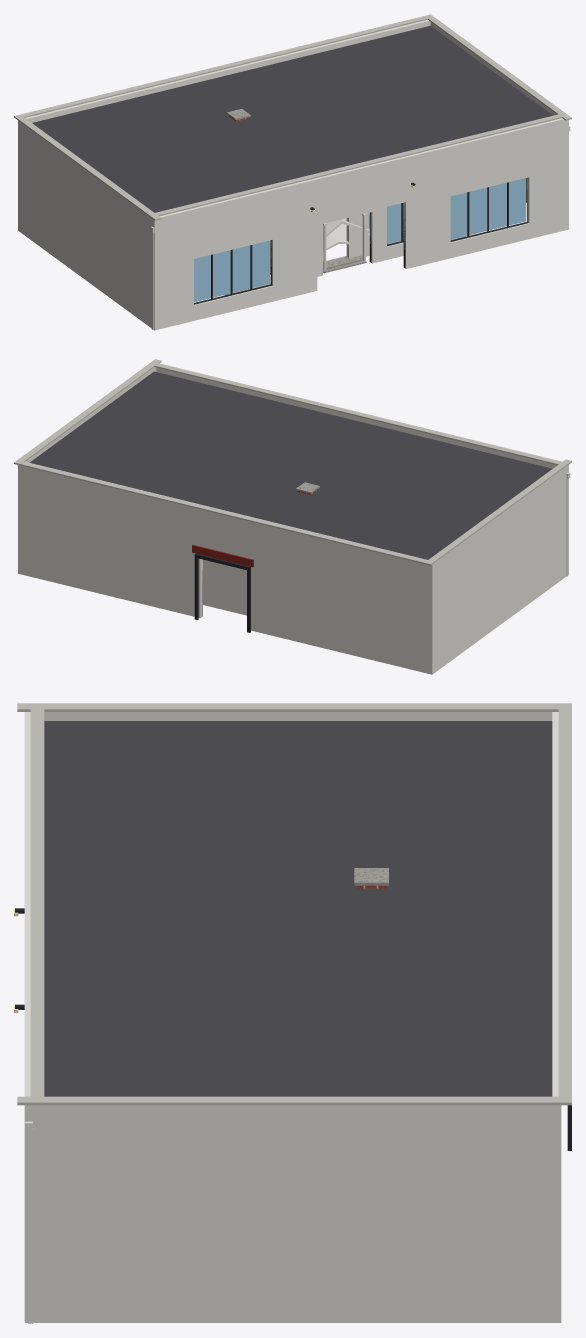
File: MogLife_Buildings.fbx
The picture shows the model from 3 angles, top to bottom: view 1: azimuth 30°, elevation 25°; view 2: azimuth 150°, elevation 25°; view 3: azimuth 270°, elevation 25°; orthographic projection. The views are drawn at different scales.
Visible parts, largest first — view 1: Shop_Gym_Trim, Shop_Gym_Walls, Shop_Clothes_Walls, House_Trim, Shop_Clothes_Trim, House_Walls, Shop_Furniture_Trim, Garage_Roof; view 2: Shop_Gym_Walls, Shop_Gym_Trim, Shop_Clothes_Walls, Shop_Furniture_Walls; view 3: Shop_Gym_Trim, Shop_Gym_Walls.
Part boxes in pixels (x1,y1,x2,y2): Shop_Gym_Trim: (14, 14, 571, 329); Shop_Gym_Walls: (18, 19, 568, 330); Shop_Clothes_Walls: (239, 207, 455, 291); House_Trim: (226, 109, 366, 273); Shop_Clothes_Trim: (270, 203, 403, 274); House_Walls: (346, 212, 369, 258); Shop_Furniture_Trim: (226, 203, 403, 294); Garage_Roof: (323, 223, 389, 251); Shop_Gym_Walls: (18, 363, 568, 674); Shop_Gym_Trim: (14, 359, 571, 632); Shop_Clothes_Walls: (203, 560, 246, 615); Shop_Furniture_Walls: (203, 559, 246, 614); Shop_Gym_Trim: (14, 703, 571, 1323); Shop_Gym_Walls: (24, 712, 561, 1322).
Bounding box in the file's own units: 84.6 × 21.85 × 49.9.
Materials: 1 (1 with a texture image).
